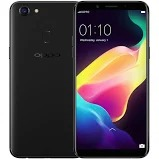oppo: (72, 1, 150, 159), (8, 1, 75, 159)
